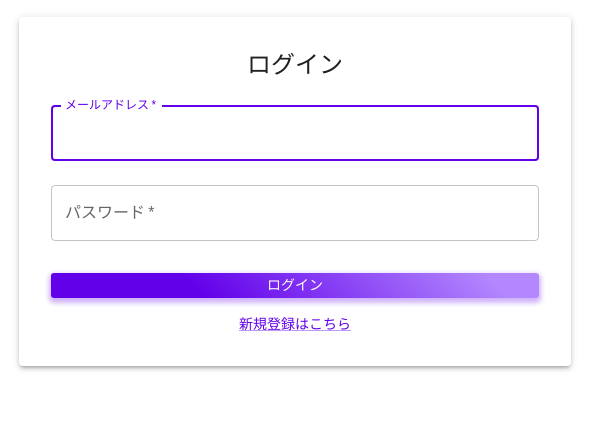
Scenario: LoginForm › shows validation error for short password
The width and height of the screenshot is (591, 434).
Step 1. Type "123" into the password field labelled "パスワード *" → (295, 213), box [51, 185, 539, 241]
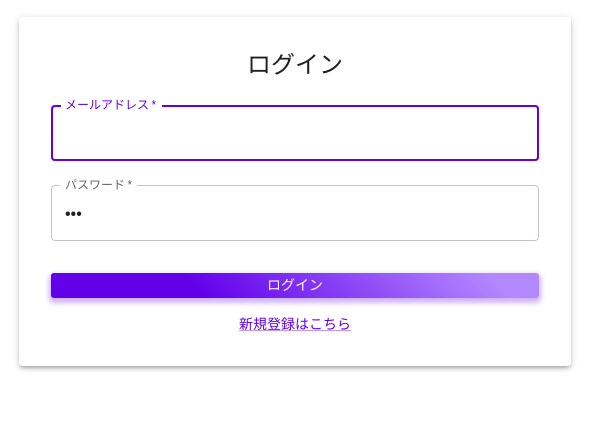
Step 2. Click the button "ログイン" → (295, 286), box [51, 273, 539, 298]
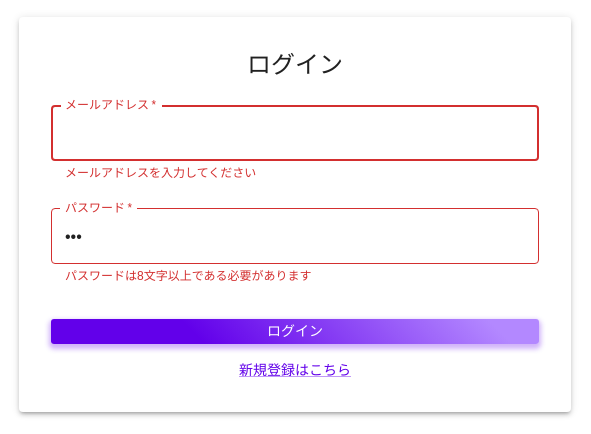
Result: the text "パスワードは8文字以上である必要があります" is shown at [65, 269, 312, 283]
